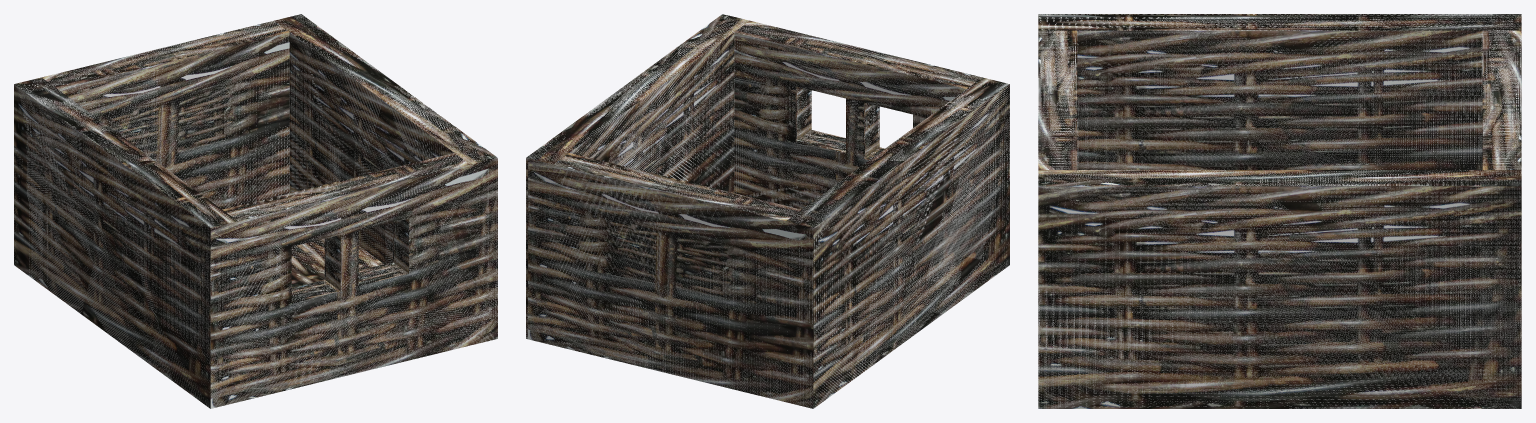
The model's file is box_wicker.dae.
3 renders of one model, left to right at view 1: azimuth 30°, elevation 25°; view 2: azimuth 150°, elevation 25°; view 3: azimuth 270°, elevation 25°, orthographic. The views are drawn at different scales.
Visible parts, largest first — view 1: SketchUp (×7); view 2: SketchUp (×6); view 3: SketchUp (×4).
Boxes of the visible parts, x1,y1,x2,y2 form: SketchUp (×7): (14,14,497,408); SketchUp (×6): (526,14,1009,408); SketchUp (×4): (1038,14,1521,408).
Bounding box in the file's own units: 0.2403 × 0.2845 × 0.1446.
Materials: 5 (4 with a texture image).
